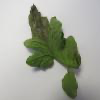Potato leaf early blight: (22, 2, 85, 69)
